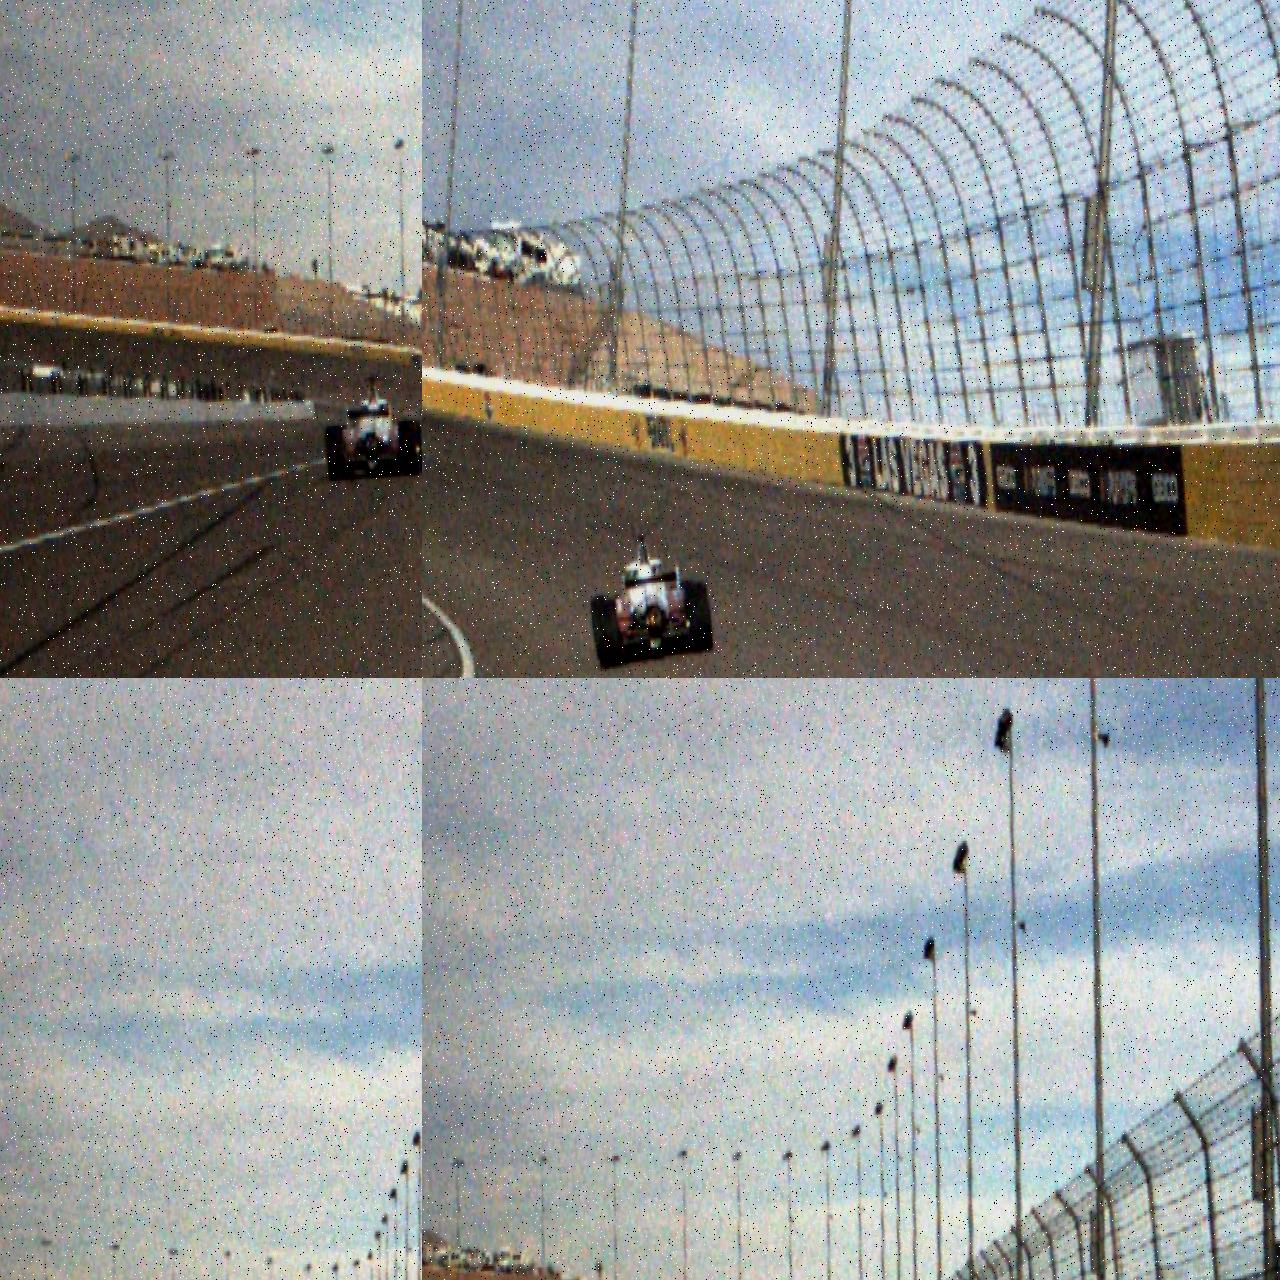AV: (586, 529, 715, 670), (320, 370, 422, 482)
Wheel: (592, 595, 621, 668), (685, 581, 712, 653), (399, 418, 421, 477), (325, 424, 347, 482)
